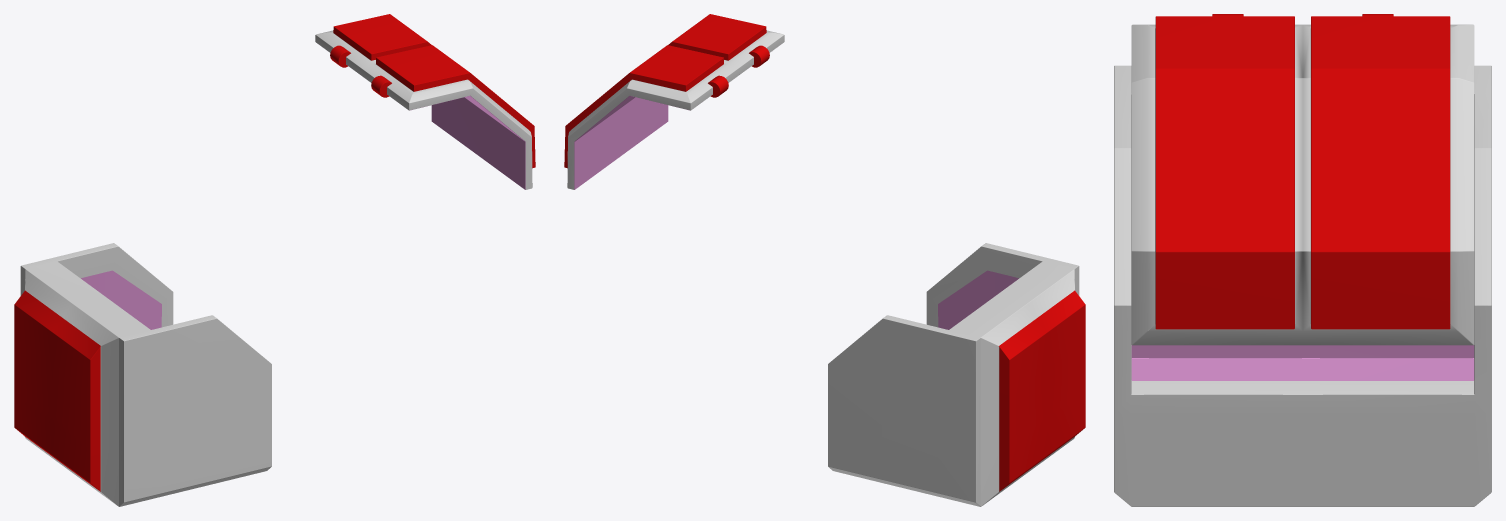
The model's file is SM_InteractableStorageBox1_Exploded.fbx.
3 renders of one model, left to right at view 1: azimuth 30°, elevation 25°; view 2: azimuth 150°, elevation 25°; view 3: azimuth 270°, elevation 25°, orthographic. The views are drawn at different scales.
Parts seen in each view (by area): view 1: BoxModel; view 2: BoxModel; view 3: BoxModel.
Boxes of the visible parts, box(x1,y1,x2,y2) form: BoxModel: box(14, 14, 535, 506); BoxModel: box(564, 14, 1085, 506); BoxModel: box(1114, 14, 1491, 506).
Size of the model in its own units: 133 by 53.66 by 98.42.
